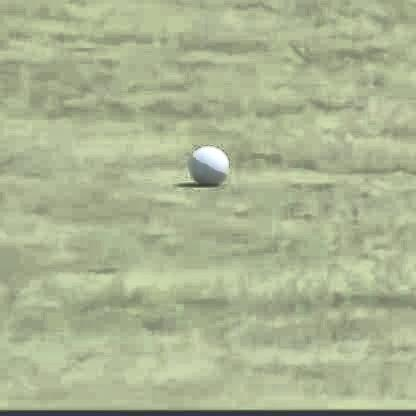golfball: (188, 142, 225, 181)
